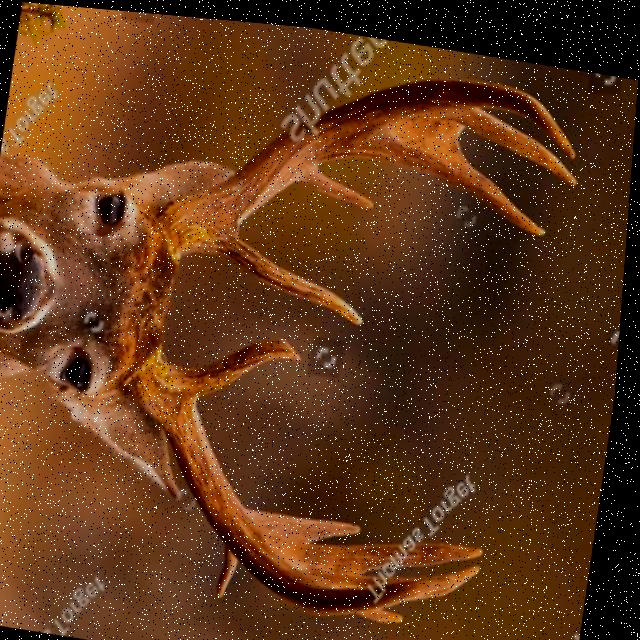E1: (224, 543, 246, 593)
L-F: (157, 68, 578, 258)
L-G1: (200, 217, 369, 320)
L-G2: (299, 156, 377, 200)
R-F: (128, 338, 474, 607)
R-G1: (175, 329, 308, 396)
